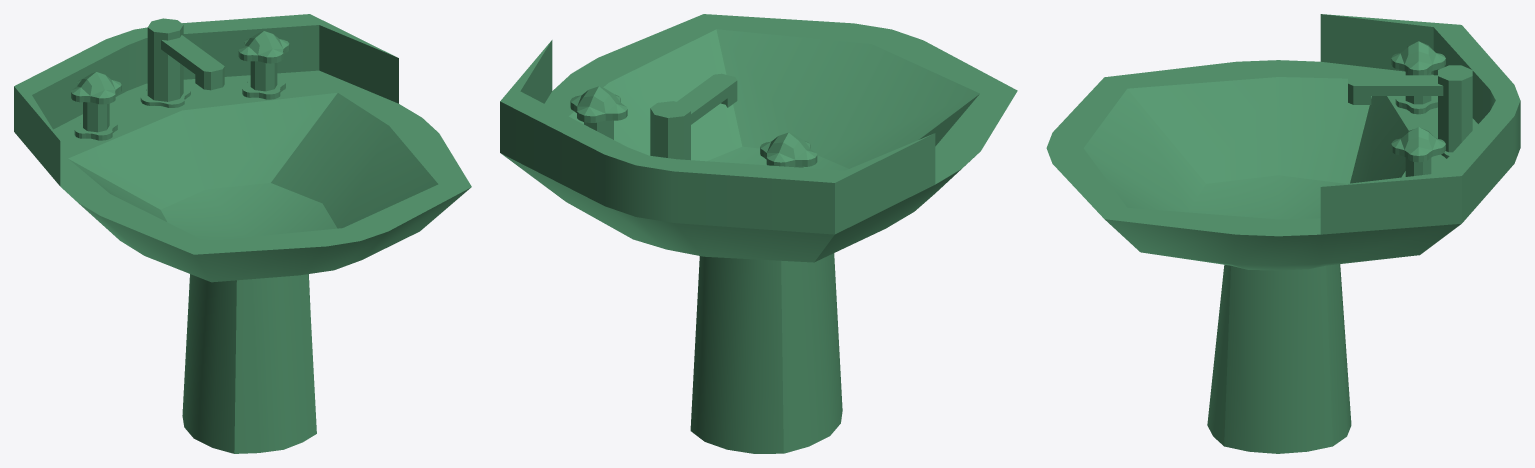
File: Washbasin_V2.fbx
3 views of the same model, side by side, from view 1: azimuth 30°, elevation 25°; view 2: azimuth 150°, elevation 25°; view 3: azimuth 270°, elevation 25° (orthographic). The views are drawn at different scales.
Visible parts, largest first — view 1: Washbasin; view 2: Washbasin; view 3: Washbasin.
Boxes of the visible parts, bbox=[...] form: Washbasin: bbox=[14, 14, 471, 453]; Washbasin: bbox=[500, 14, 1017, 453]; Washbasin: bbox=[1046, 14, 1520, 453].
Size of the model in its own units: 134 by 125 by 152.
